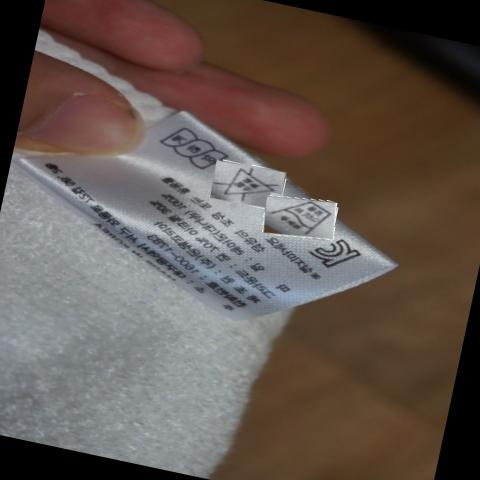hand_wash: (268, 194, 330, 237)
non_chlorine_bleach: (216, 161, 273, 201)
wring: (165, 121, 221, 169)
